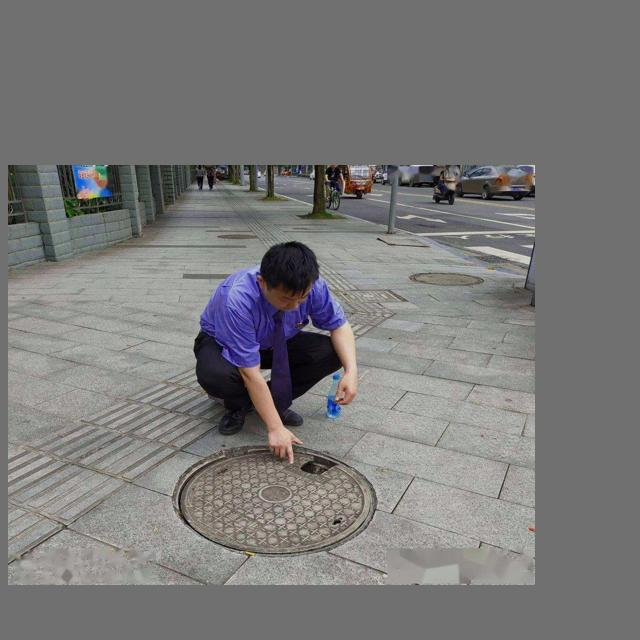broke: (177, 444, 380, 554)
